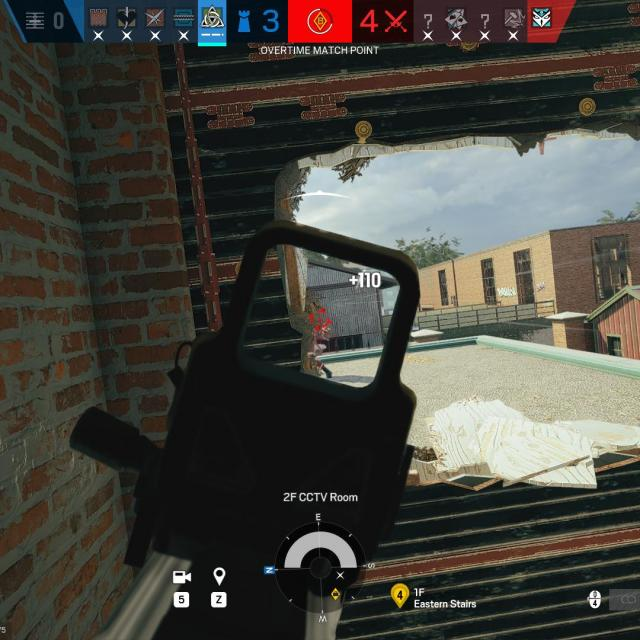Character: (312, 320, 334, 379)
